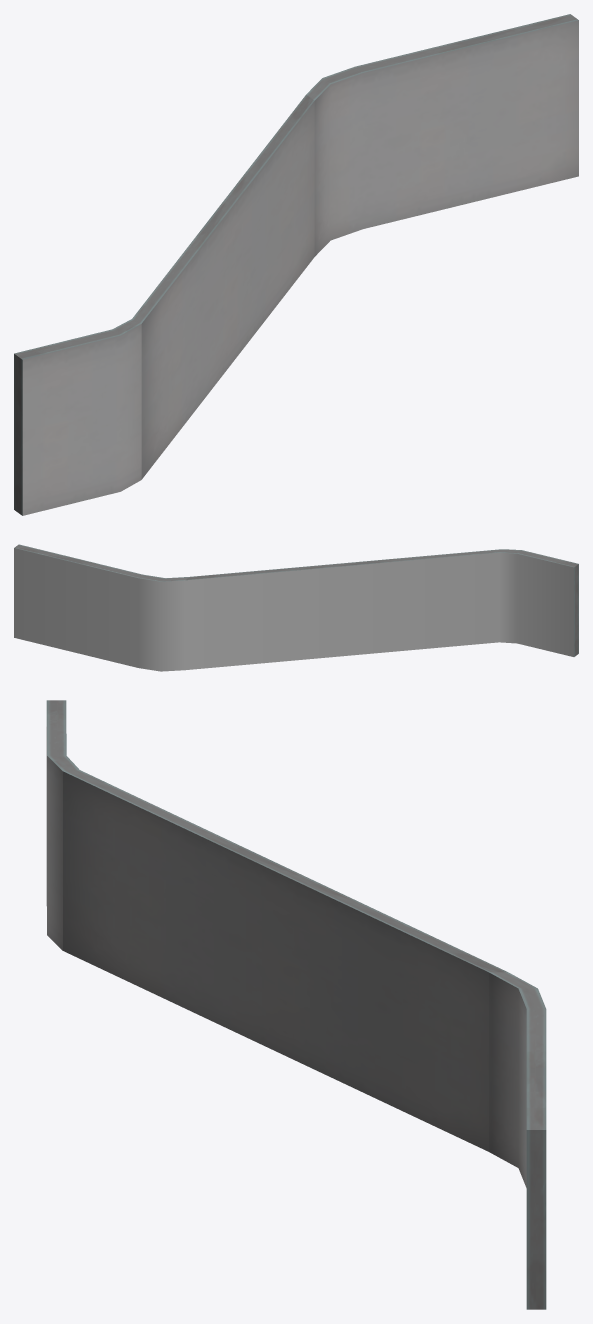
File: pref_sm_city_billboardholo06_snow_lv3.fbx
3 renders of one model, top to bottom at view 1: azimuth 30°, elevation 25°; view 2: azimuth 150°, elevation 25°; view 3: azimuth 270°, elevation 25°, orthographic. The views are drawn at different scales.
Visible parts, largest first — view 1: sm_city_billboardholo06b_snow_lv3; view 2: sm_city_billboardholo06_snow_lv3, sm_city_billboardholo06b_snow_lv3; view 3: sm_city_billboardholo06b_snow_lv3.
Part boxes in pixels (x1,y1,x2,y2): sm_city_billboardholo06b_snow_lv3: (14,14,578,515); sm_city_billboardholo06_snow_lv3: (14,548,573,671); sm_city_billboardholo06b_snow_lv3: (14,544,578,656); sm_city_billboardholo06b_snow_lv3: (46,700,546,1309).
Bounding box in the file's own units: 24.98 × 4.87 × 12.28.
